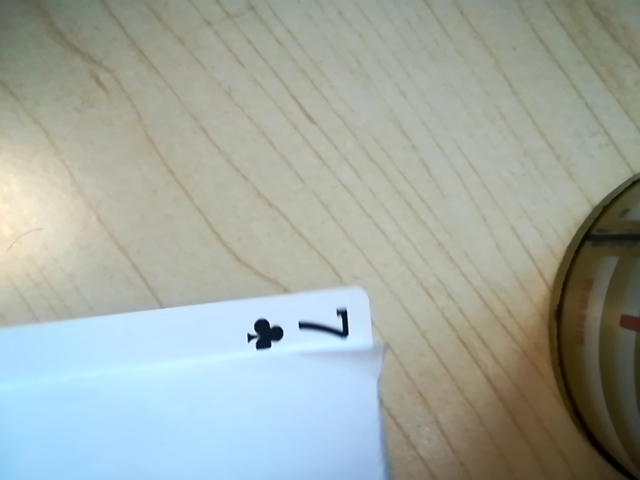mh 7: (229, 298, 371, 359)
